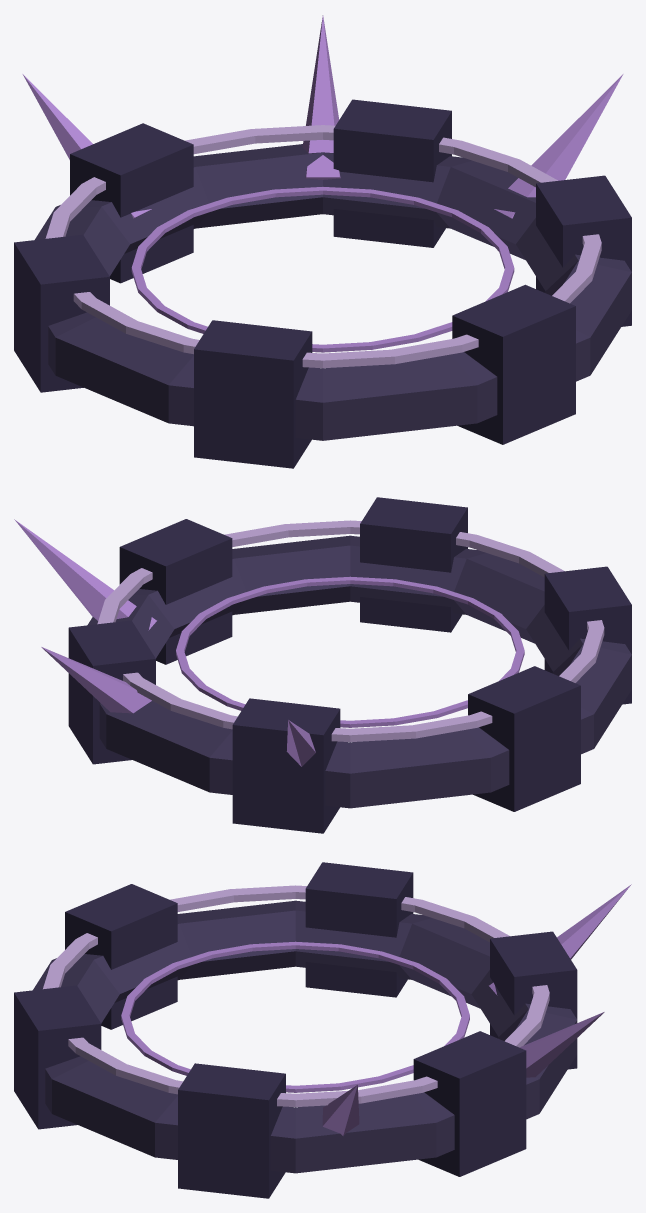
The model's file is stone_ring_lit.gltf.
3 views of the same model, one above another, from view 1: azimuth 30°, elevation 25°; view 2: azimuth 150°, elevation 25°; view 3: azimuth 270°, elevation 25° (orthographic). The views are drawn at different scales.
Parts seen in each view (by area): view 1: stones, band, groove, crystals, lip; view 2: stones, band, groove, crystals, lip; view 3: stones, band, groove, lip, crystals.
Part boxes in pixels (left/top/right/bottom): stones: left=14, top=99, right=631, bottom=468; band: left=35, top=144, right=631, bottom=440; groove: left=45, top=125, right=601, bottom=368; crystals: left=22, top=15, right=623, bottom=218; lip: left=131, top=187, right=514, bottom=352; stones: left=68, top=497, right=631, bottom=833; band: left=87, top=535, right=631, bottom=808; groove: left=97, top=520, right=604, bottom=742; crystals: left=14, top=519, right=315, bottom=766; lip: left=176, top=576, right=524, bottom=727; stones: left=14, top=862, right=577, bottom=1198; band: left=33, top=900, right=577, bottom=1173; groove: left=43, top=885, right=549, bottom=1107; lip: left=121, top=941, right=469, bottom=1092; crystals: left=322, top=884, right=631, bottom=1135.
Size of the model in its own units: 8.75 by 2.19 by 8.53.
